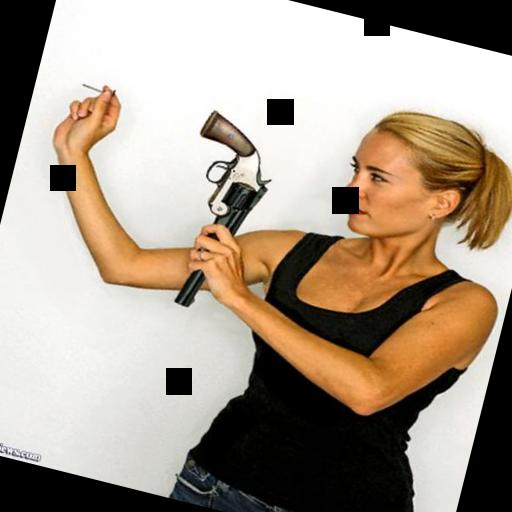Handgun: (145, 100, 285, 319)
